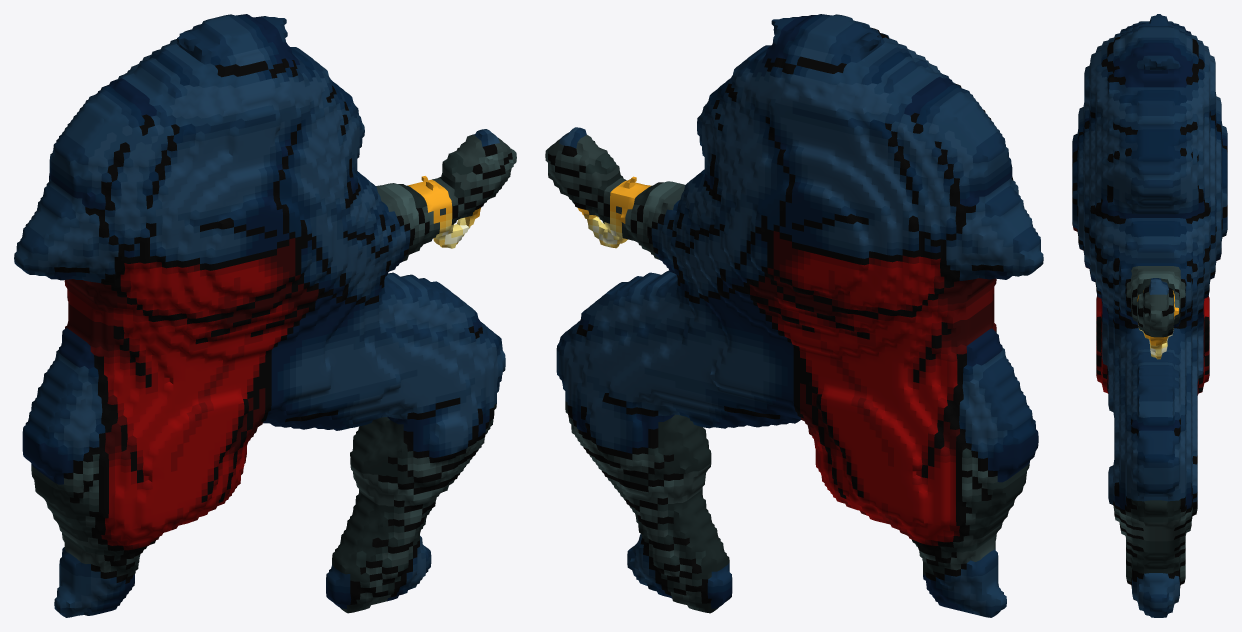
Rendered from Fight_017_2_04.obj.
3 views of the same model, side by side, from view 1: azimuth 30°, elevation 25°; view 2: azimuth 150°, elevation 25°; view 3: azimuth 270°, elevation 25° (orthographic). The views are drawn at different scales.
Bounding box in the file's own units: 8.1 × 9.6 × 2.6.
